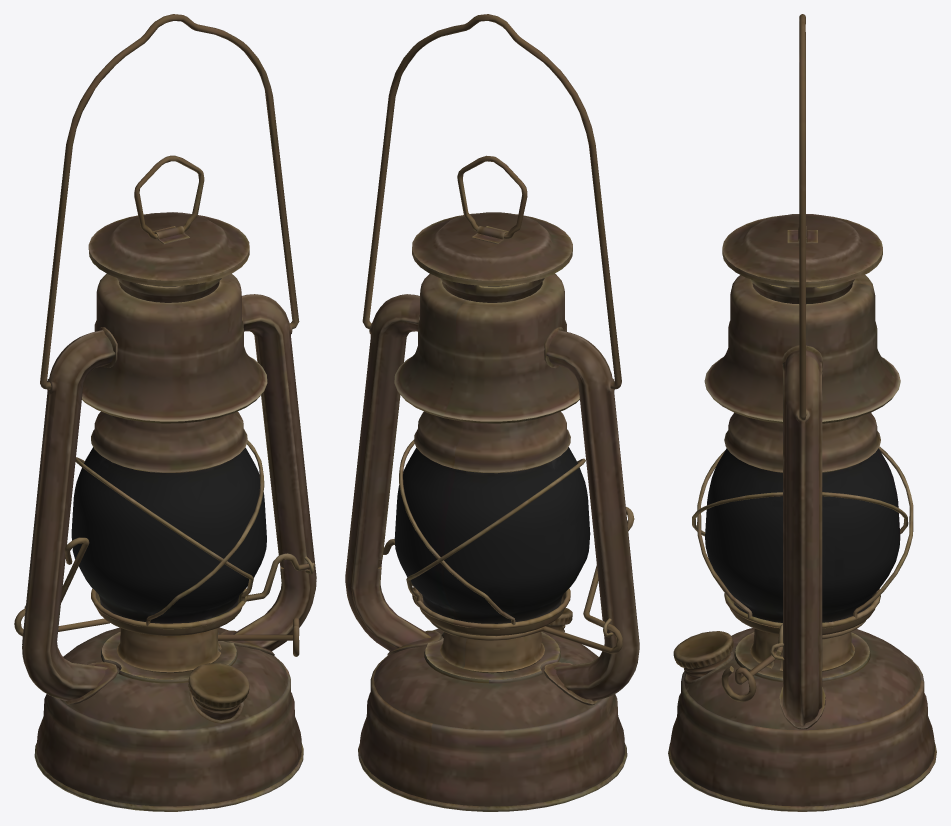
Rendered from ph_Lantern_01.glb.
3 renders of one model, left to right at view 1: azimuth 30°, elevation 25°; view 2: azimuth 150°, elevation 25°; view 3: azimuth 270°, elevation 25°, orthographic.
Visible parts, largest first — view 1: Lantern_01, Lantern_01_glass; view 2: Lantern_01, Lantern_01_glass; view 3: Lantern_01, Lantern_01_glass.
Boxes of the visible parts, x1,y1,x2,y2 form: Lantern_01: (14,14,316,811); Lantern_01_glass: (71,447,266,623); Lantern_01: (345,14,639,811); Lantern_01_glass: (394,447,590,623); Lantern_01: (668,14,936,811); Lantern_01_glass: (705,448,900,622).
Bounding box in the file's own units: 0.1221 × 0.2942 × 0.0971.
Materials: 2 (2 with a texture image).
